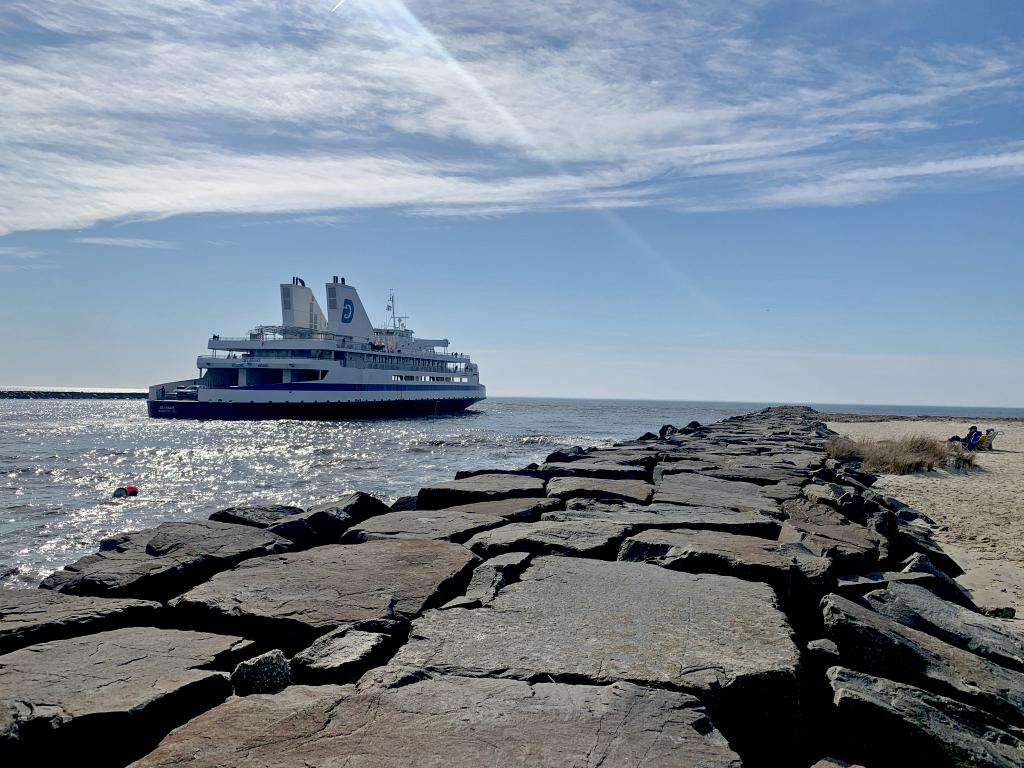PassengerShip: (140, 266, 490, 431)
